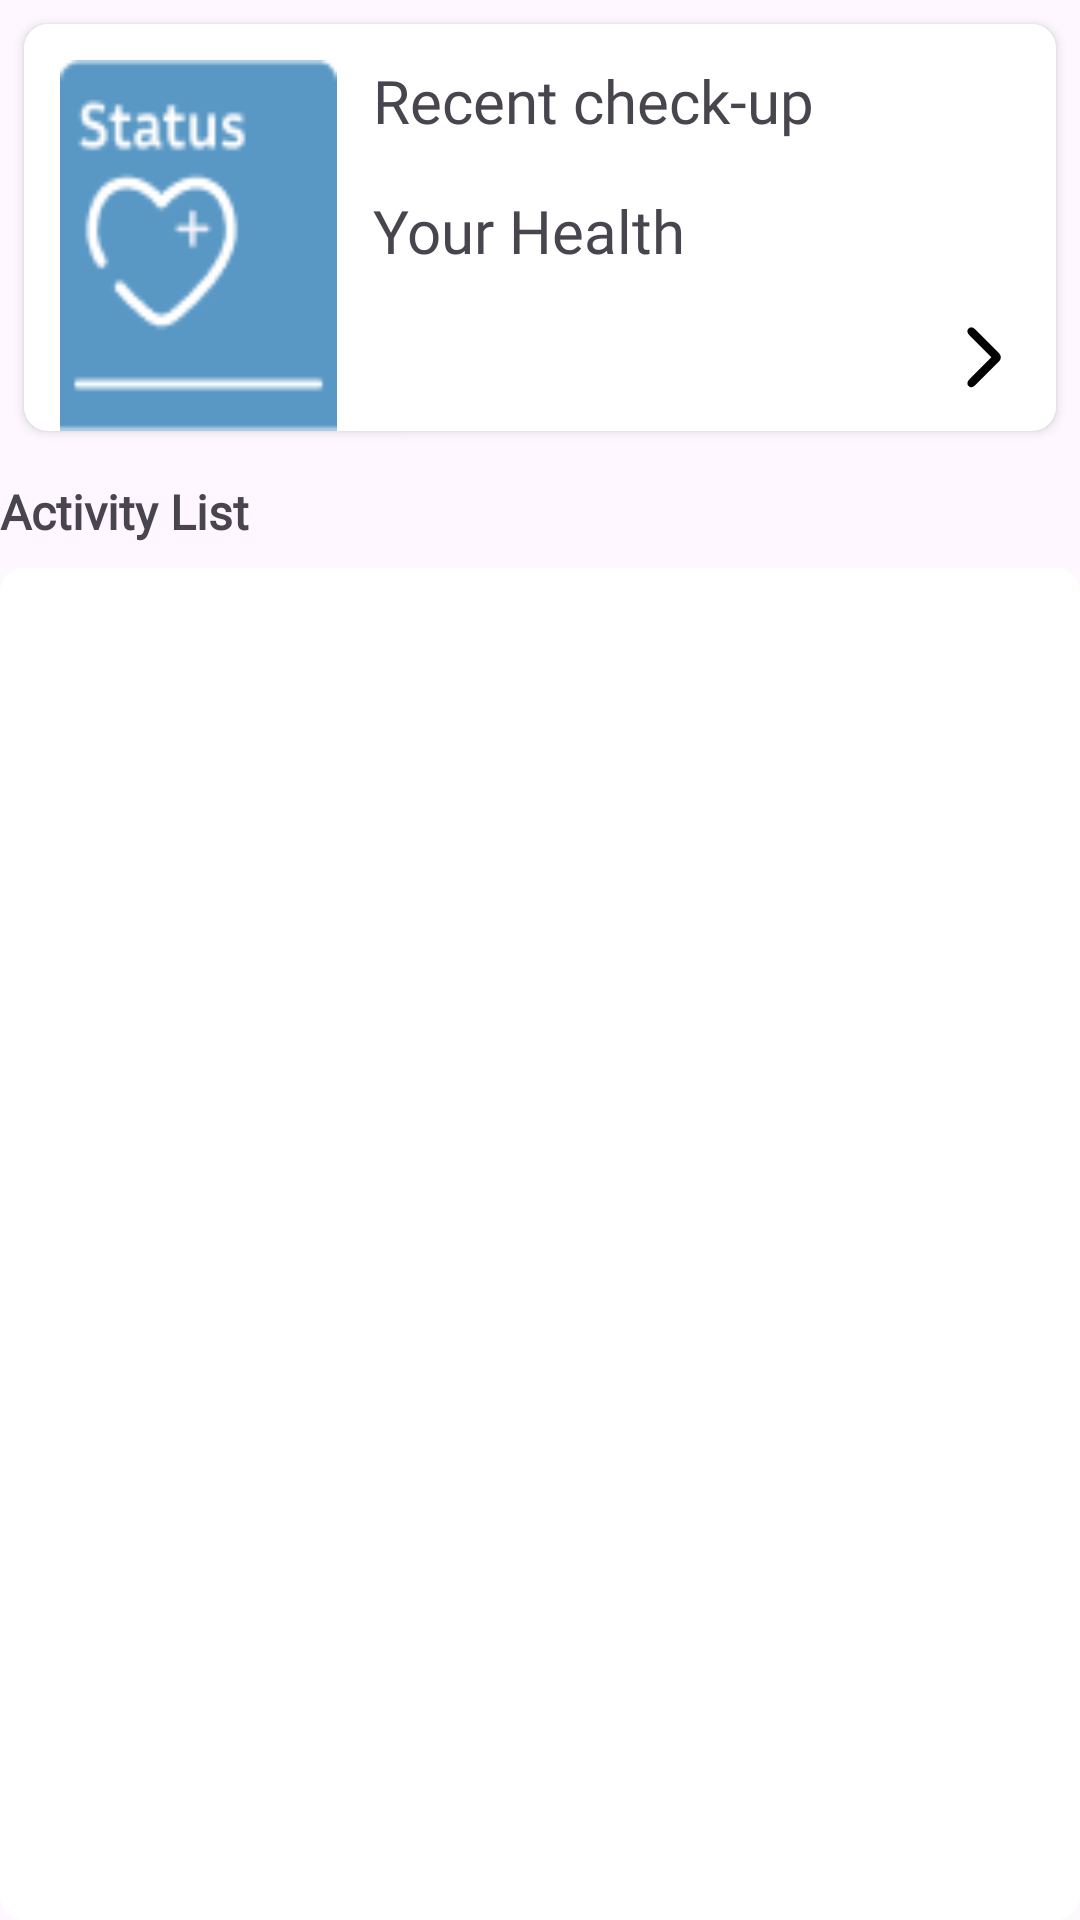

Locate icon controls on the screen. Image size 1080px x 1920px, boxes as (x1, y1, x2, y2).
arrow next: (967, 327, 1001, 388)
